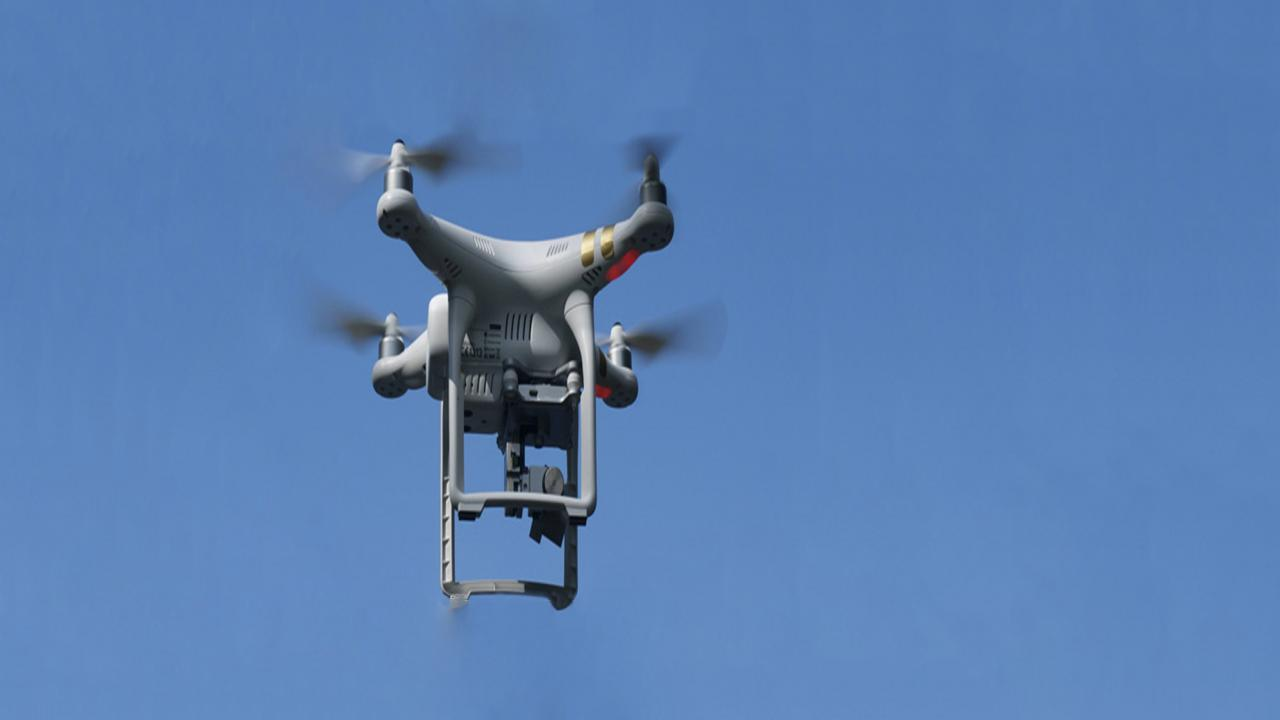Drone: (266, 82, 734, 629)
